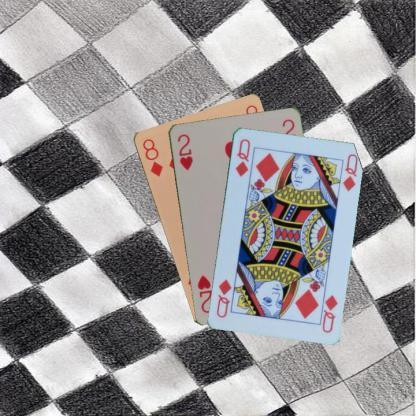2h: (174, 131, 193, 172)
8d: (139, 136, 164, 178)
Qd: (316, 288, 339, 334), (233, 136, 252, 178)
